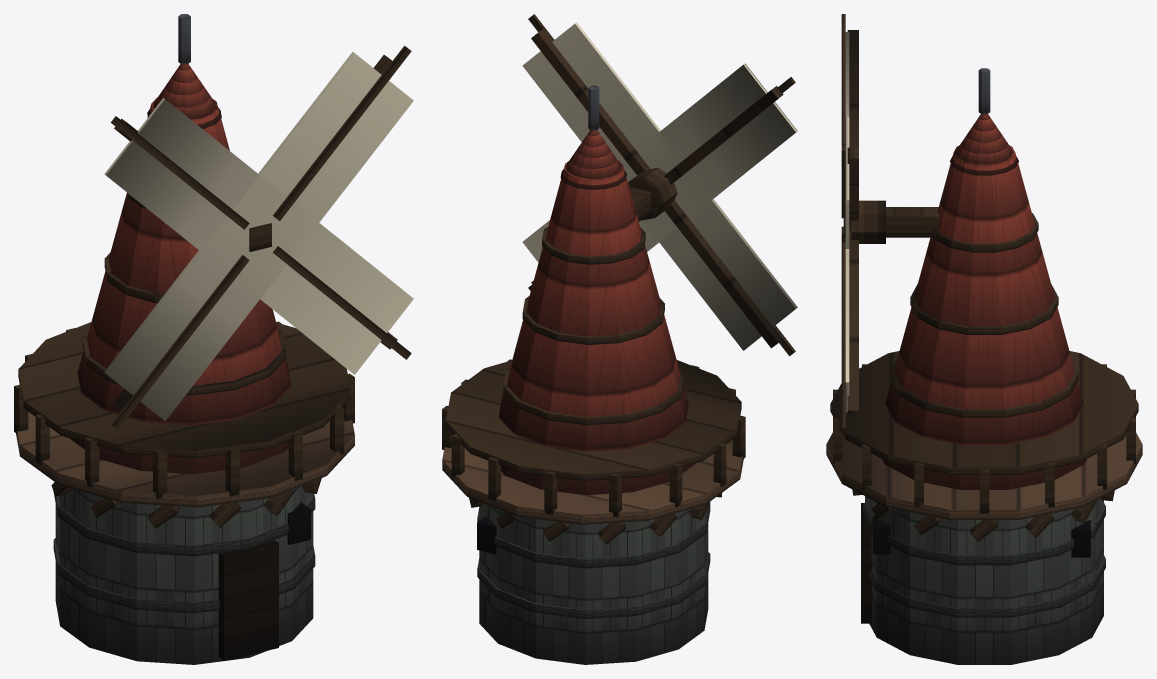
File: windmill.fbx
3 views of the same model, side by side, from view 1: azimuth 30°, elevation 25°; view 2: azimuth 150°, elevation 25°; view 3: azimuth 270°, elevation 25° (orthographic). The views are drawn at different scales.
Parts seen in each view (by area): view 1: windmill; view 2: windmill; view 3: windmill.
Part boxes in pixels (x1,y1,x2,y2): windmill: [14, 14, 413, 664]; windmill: [442, 14, 797, 664]; windmill: [826, 14, 1142, 664].
Bounding box in the file's own units: 169 × 312 × 164.
1 material, 1 textured.
